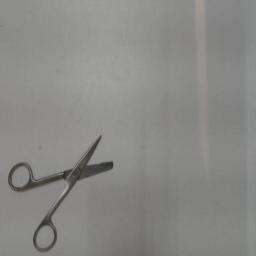Dressing Scissors: (5, 128, 123, 254)
